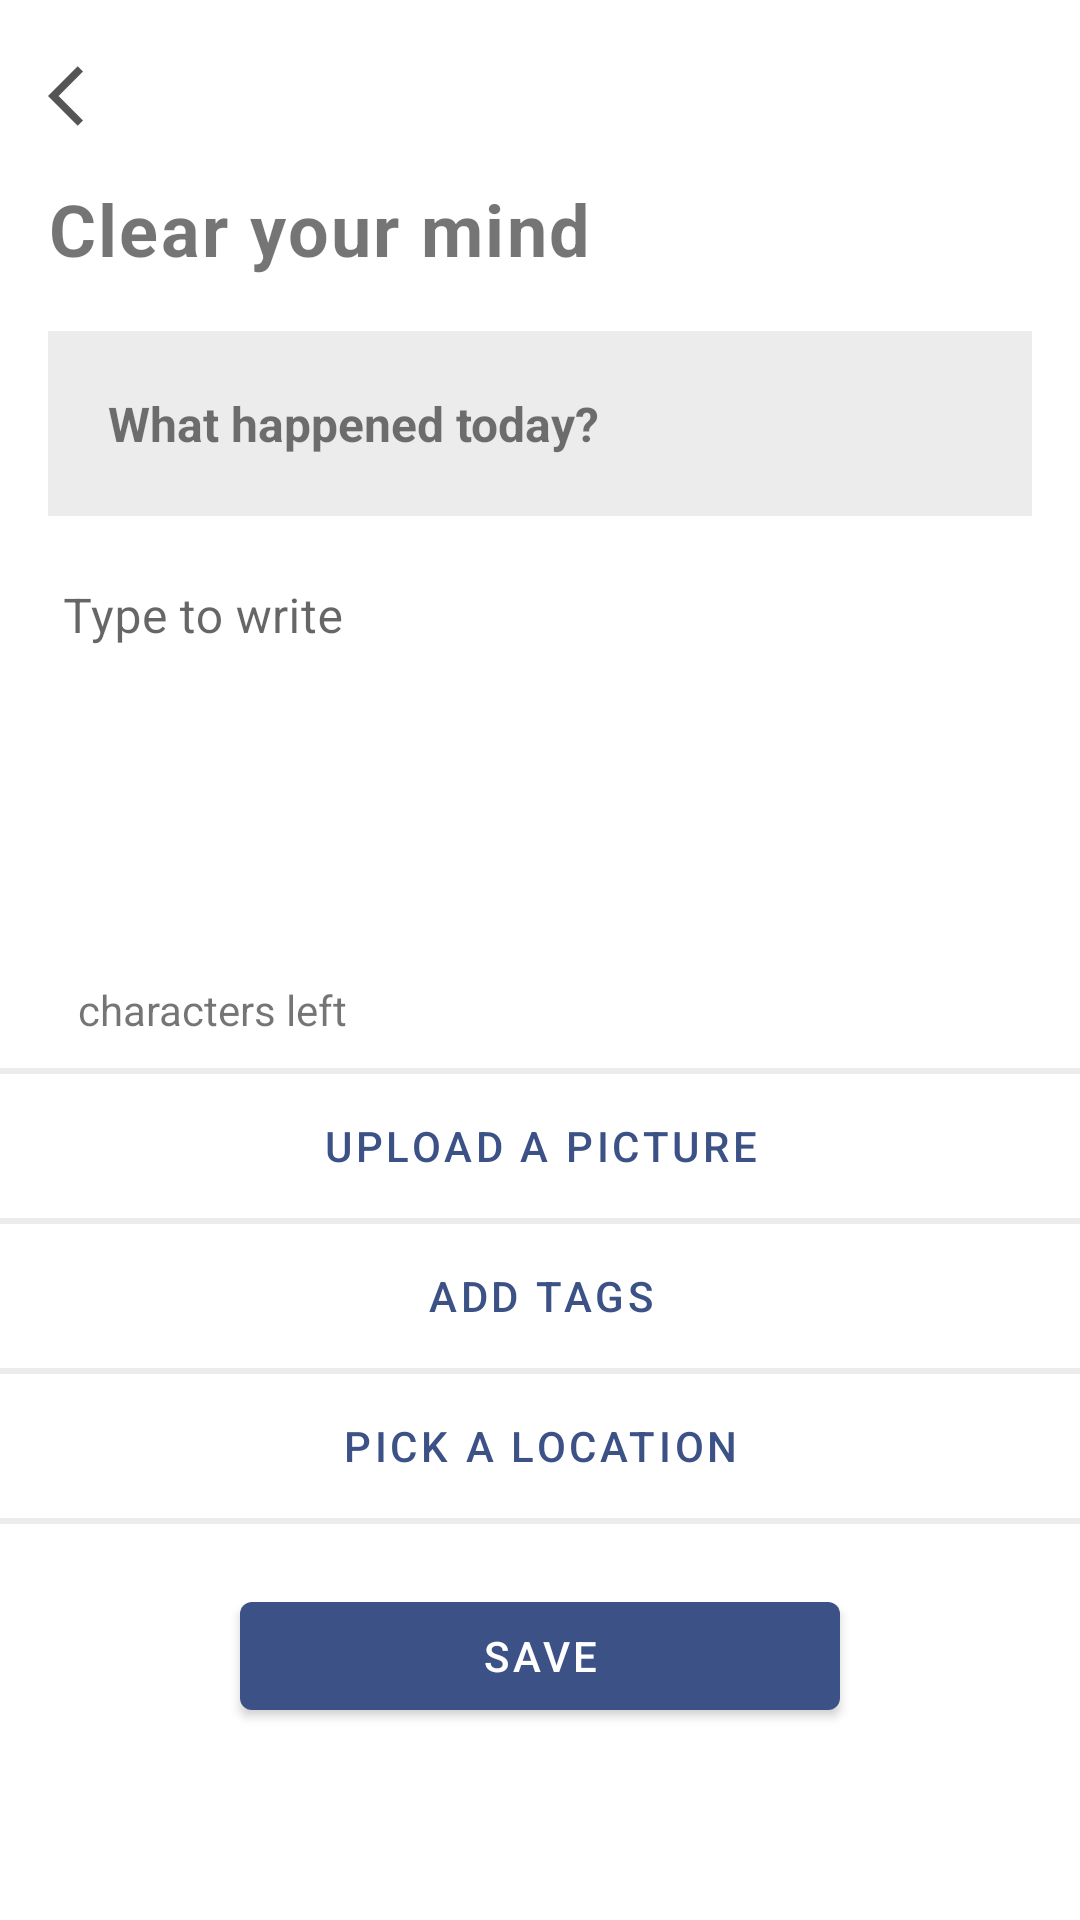

Screen size 1080*1920. Icon name, then its center in pixels as (x,y):
back image: (65,96)
